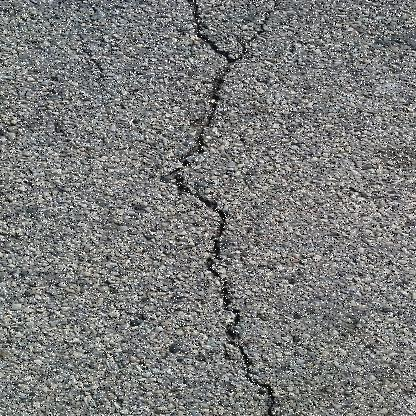Cracks: (150, 0, 304, 415)
